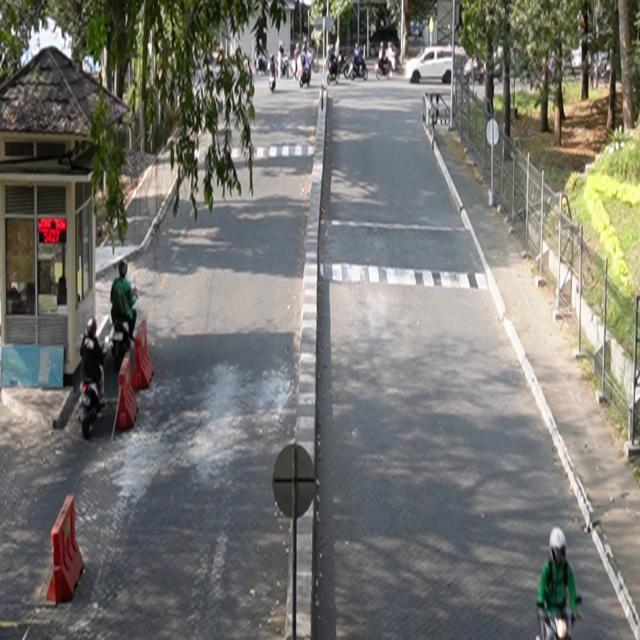car: (405, 46, 469, 85)
